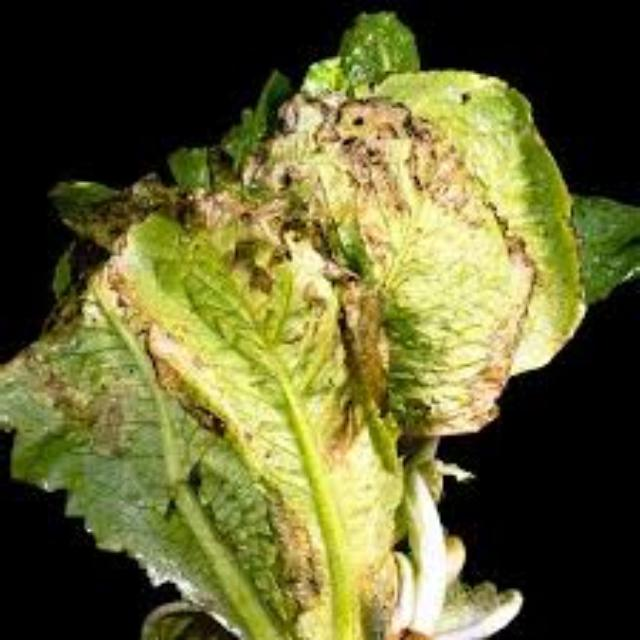Downy_mildew: (30, 96, 508, 638)
